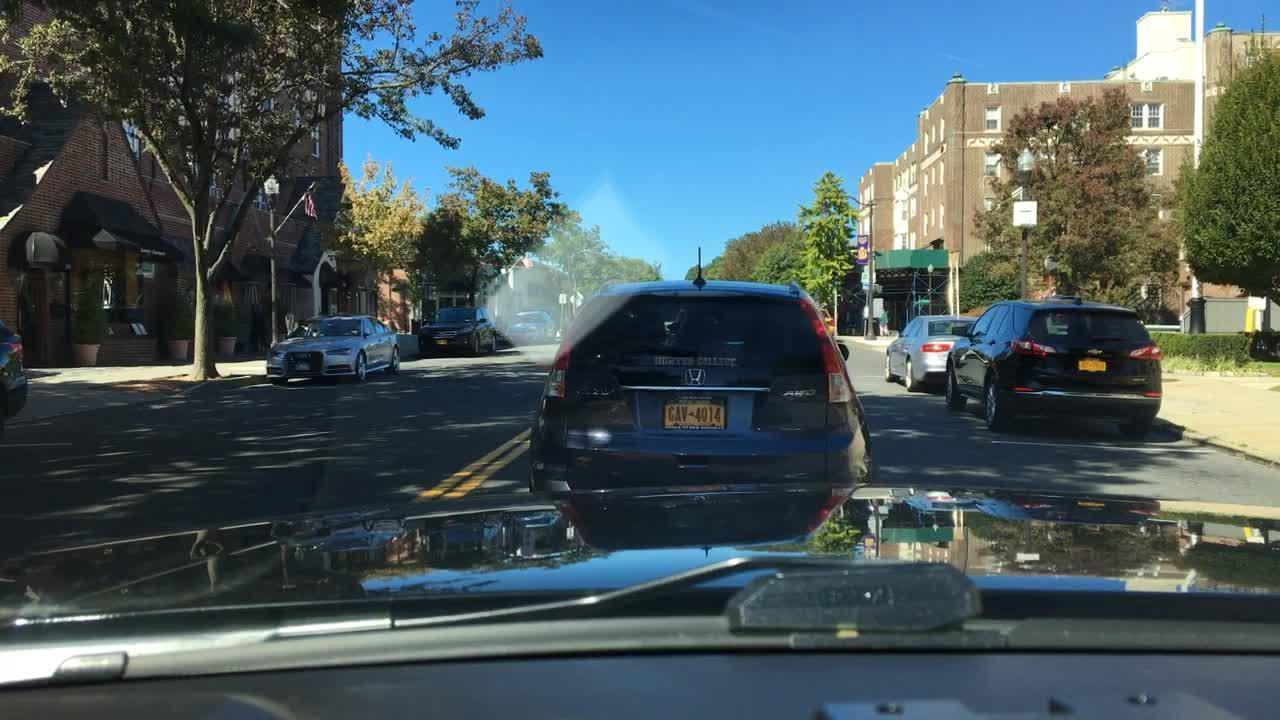Audi: (286, 347, 317, 363)
Honda: (679, 363, 713, 397)
chevrolet: (1079, 341, 1108, 362)
